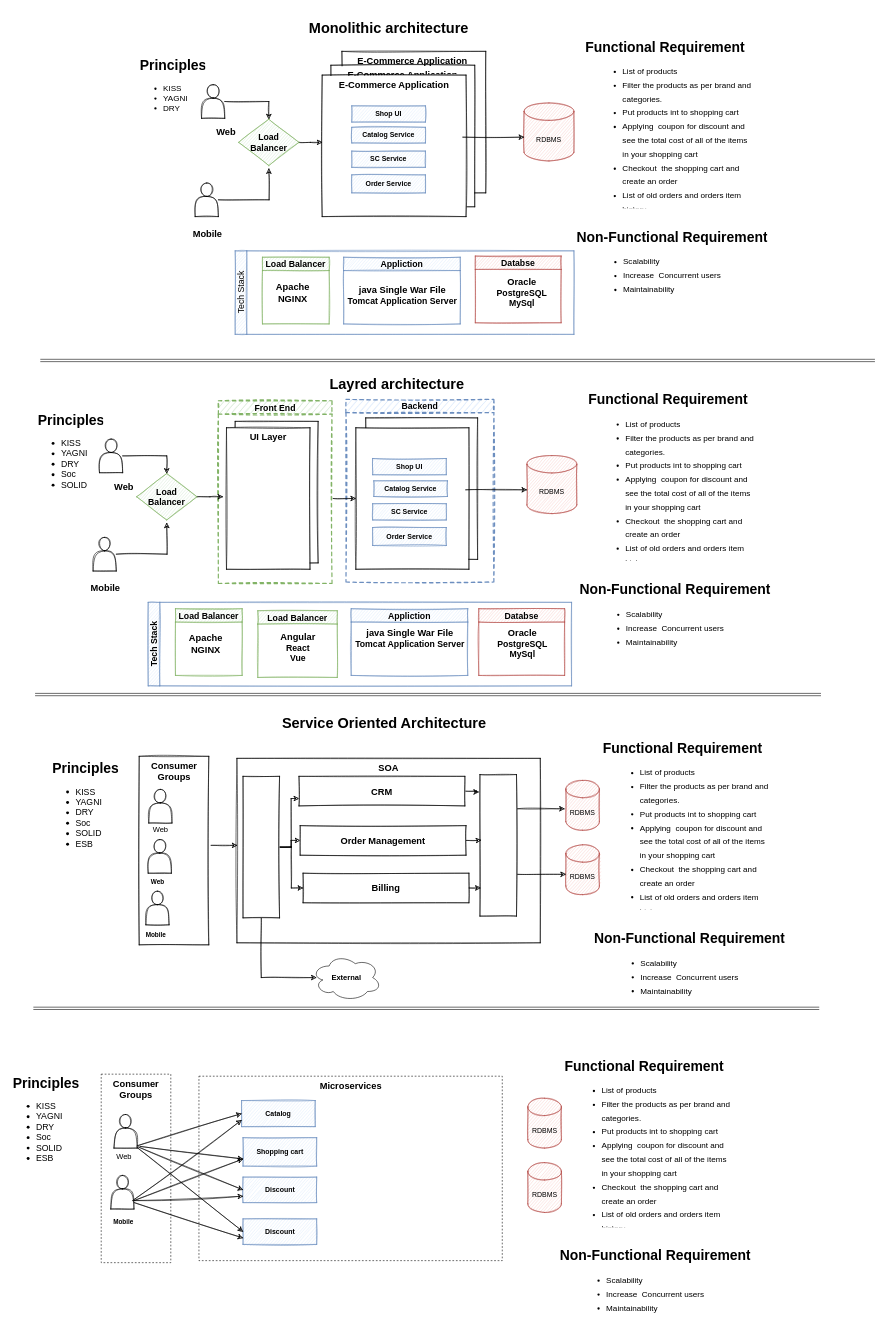
Some shapes in this 885 by 1324 pixel diagram are drawn without their labels. The centre of each missing label's shape, as x and y in pixels:
"Backend Layer/Business Logi" goes at (x=412, y=498).
"ESB" goes at (x=261, y=847).
"Shared" goes at (x=497, y=845).
